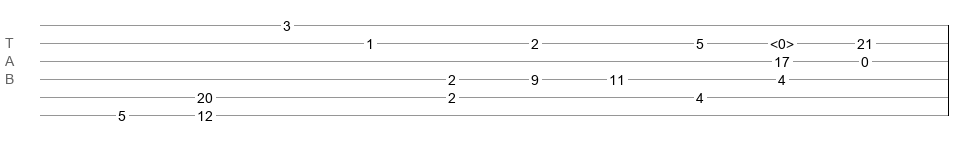0: (861, 54, 869, 64)
1: (366, 36, 374, 46)
11: (609, 72, 625, 82)
12: (197, 108, 213, 118)
17: (774, 54, 790, 64)
2: (448, 72, 456, 82), (448, 90, 456, 100), (531, 36, 539, 46)
20: (197, 90, 213, 100)
21: (857, 36, 873, 46)
3: (283, 18, 291, 28)
4: (696, 90, 704, 100), (778, 72, 786, 82)
5: (118, 108, 126, 118), (696, 36, 704, 46)
9: (531, 72, 539, 82)
harmonic: (770, 36, 794, 46)
